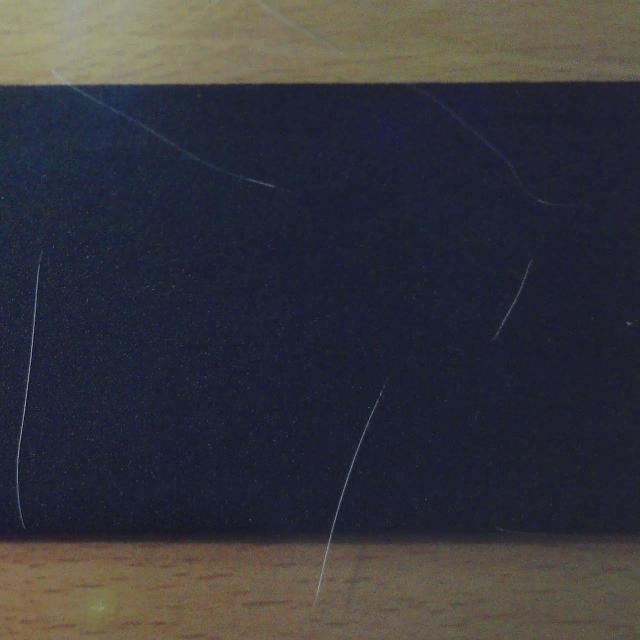defect: (73, 86, 278, 192), (410, 84, 570, 210), (4, 252, 50, 532), (325, 381, 383, 535), (493, 262, 531, 340)
